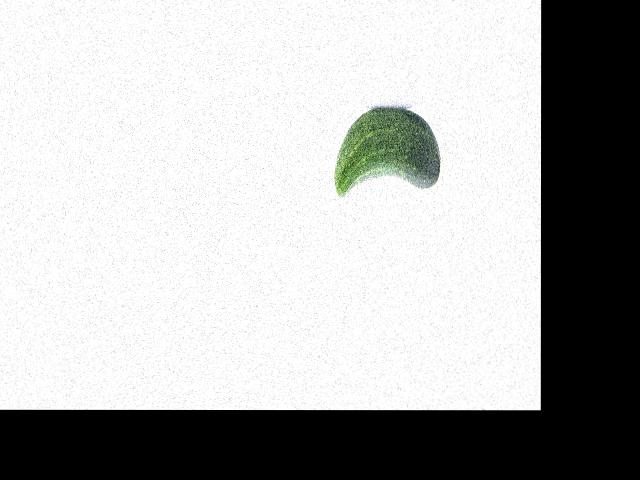cucumber: (333, 107, 440, 196)
